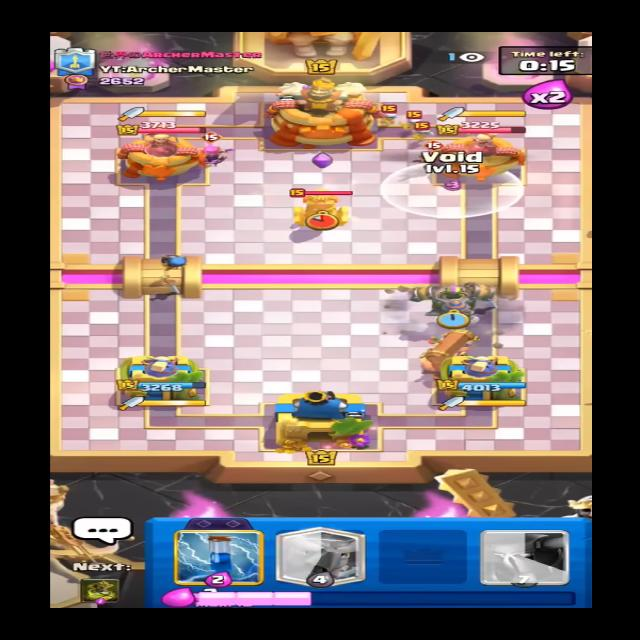evo-archers: (187, 130, 233, 164), (422, 130, 462, 169)
skeleton: (399, 110, 433, 132), (373, 105, 402, 123)
tesla: (282, 184, 356, 232)
